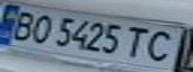2: (84, 19, 109, 54)
4: (69, 17, 90, 52)
5: (103, 20, 127, 56), (51, 15, 75, 48)
B: (3, 9, 42, 42)
C: (139, 28, 190, 63)
O: (24, 11, 57, 45)
T: (121, 24, 157, 60)
